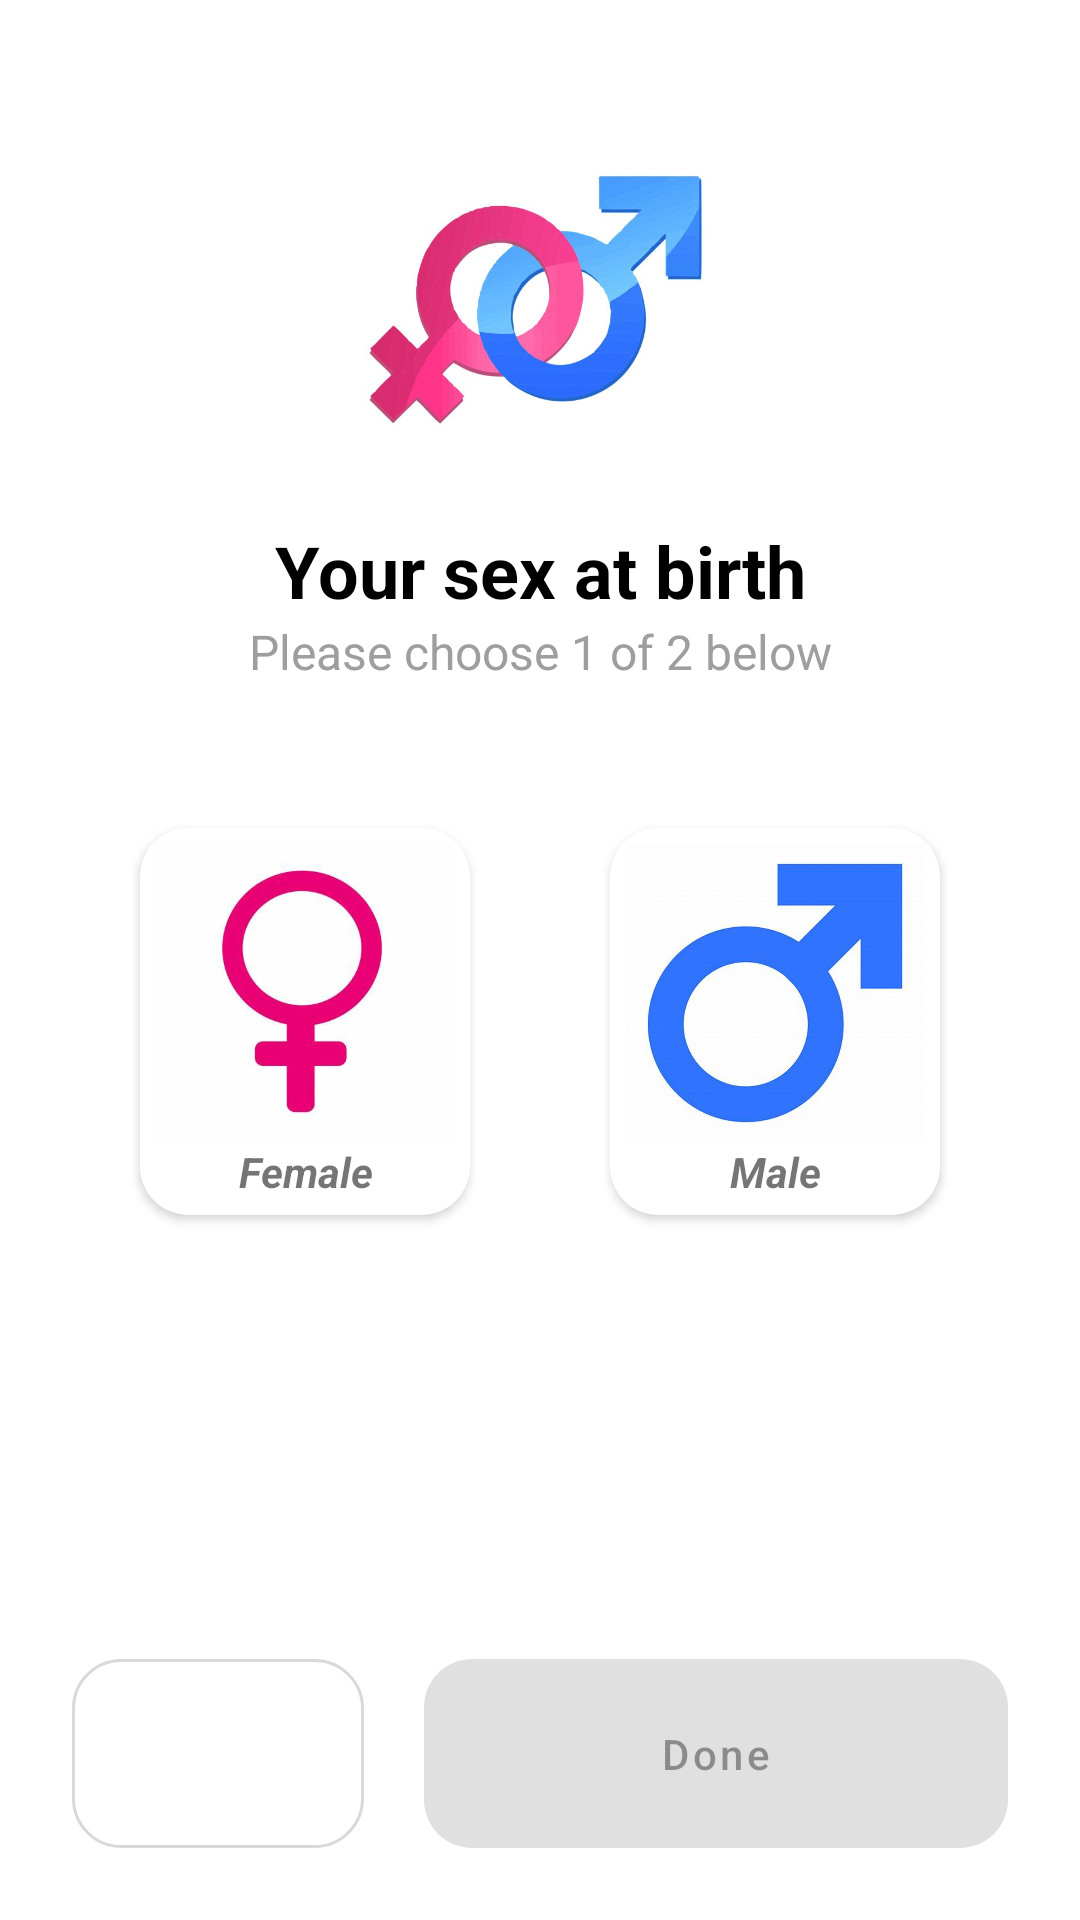

Icon bounding boxes for this 1080 × 1920 phone screenshot, format (x1, y1, x2, y2):
male femal: (369, 176, 702, 424)
